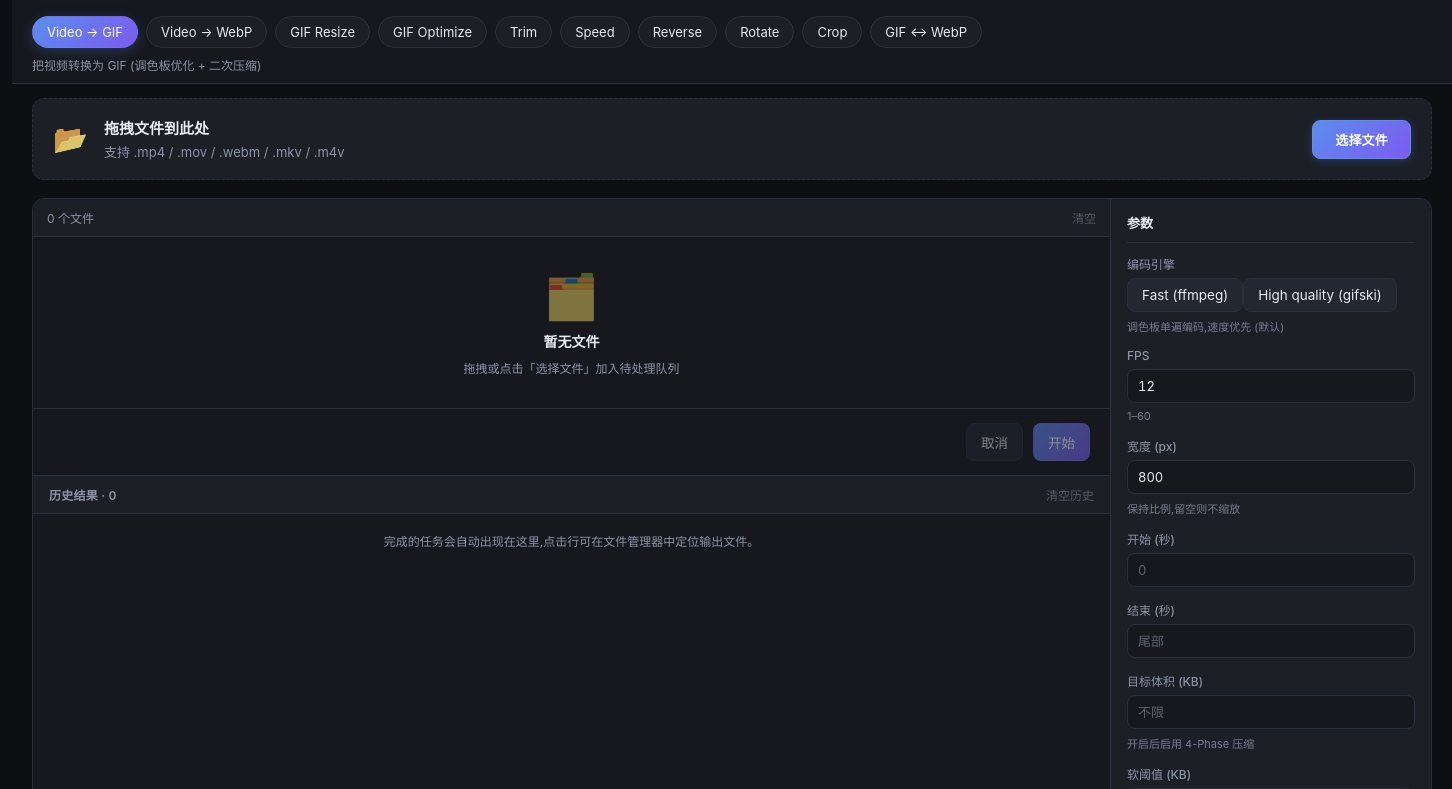
Test: ToolboxPanel › switching kinds preserves jobs whose extension is still allowed (R-38, updated R-41)
This screenshot has width=1452, height=789.
Click the button "选择文件" at [1362, 139], box [1312, 120, 1411, 158]
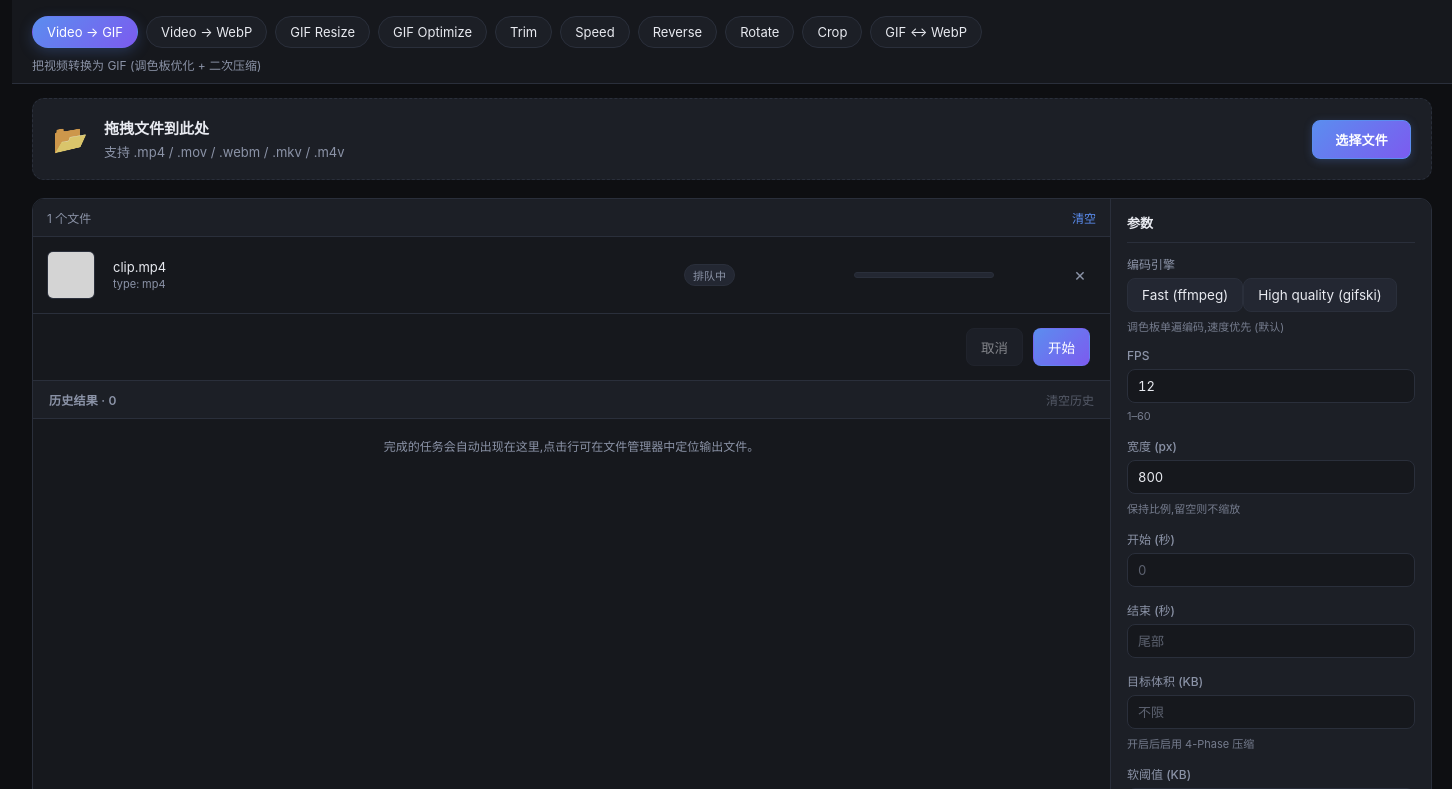
Expected: the text "clip.mp4" is shown, [113, 259, 166, 275]
Click the tab "Video → WebP" at [207, 32], box [146, 16, 267, 48]
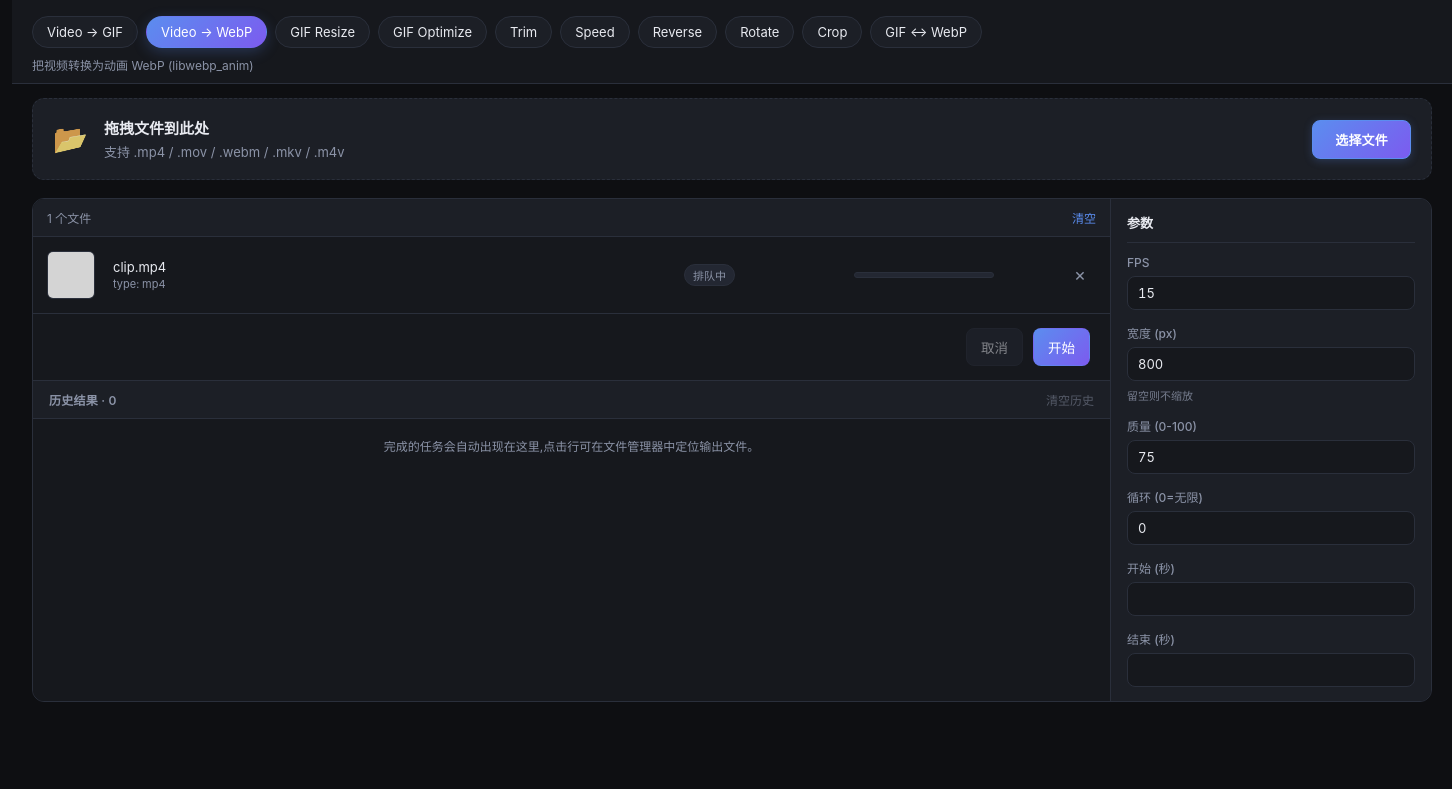
Expected: the text "clip.mp4" is shown, [113, 259, 166, 275]
Click the tab "GIF Resize" at [323, 32], box [275, 16, 370, 48]
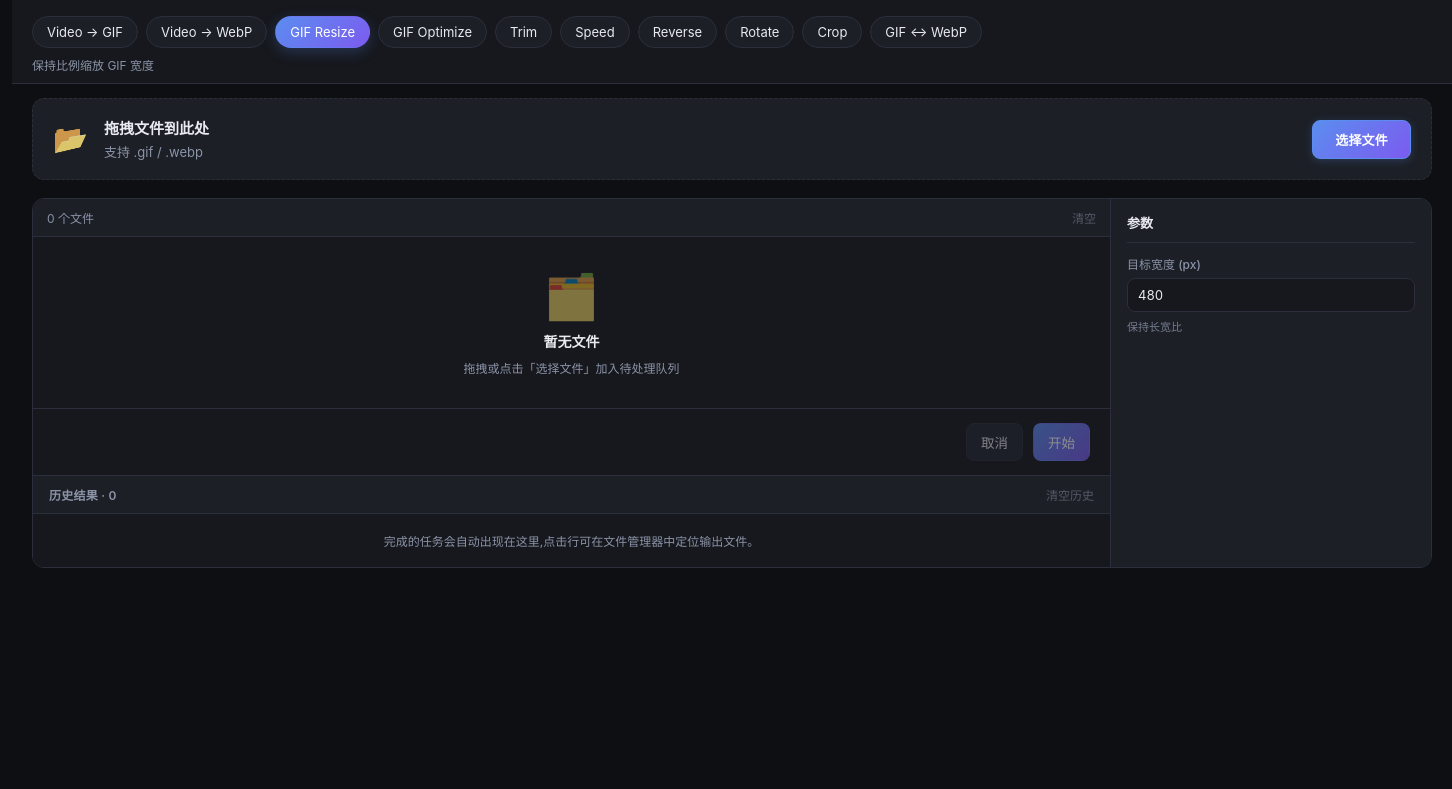
Expected: the text "clip.mp4" is gone
